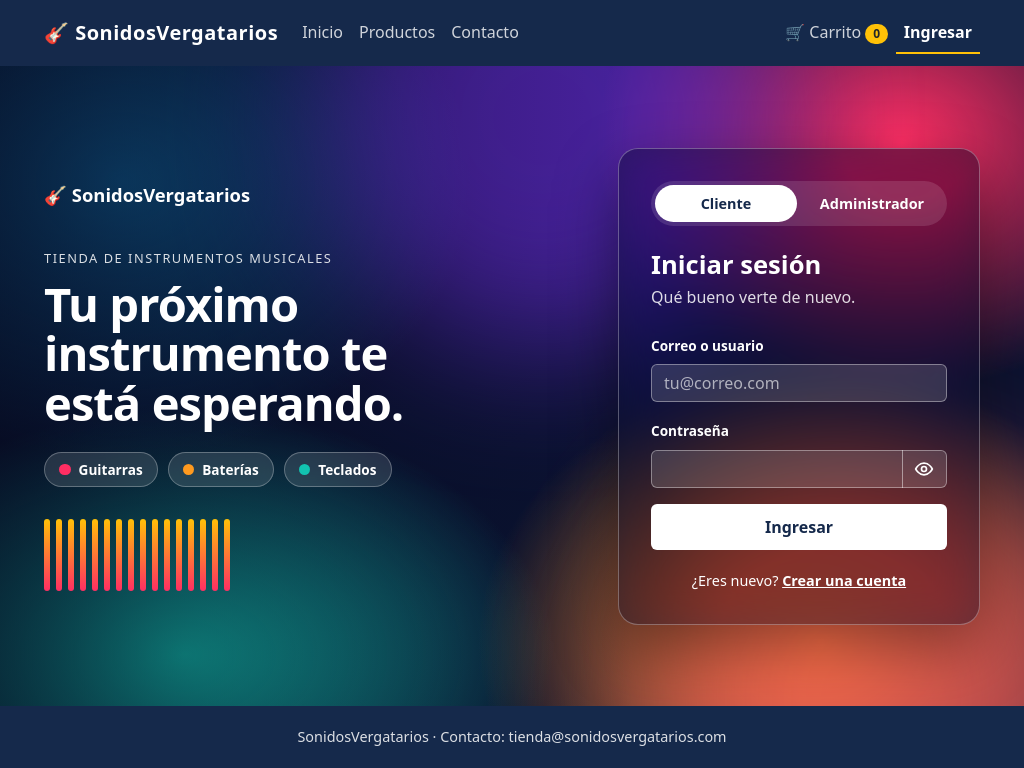
Test case: cuentas de cliente › ofrece dos partes en un solo login: cliente y administrador
Expected: the heading "Iniciar sesión" is shown, x1=651 y1=247 x2=821 y2=282
What coordinates should you click on to do the following:
click the button "Administrador"
I would click on:
 (872, 204)
Its box is x1=801 y1=185 x2=943 y2=222.
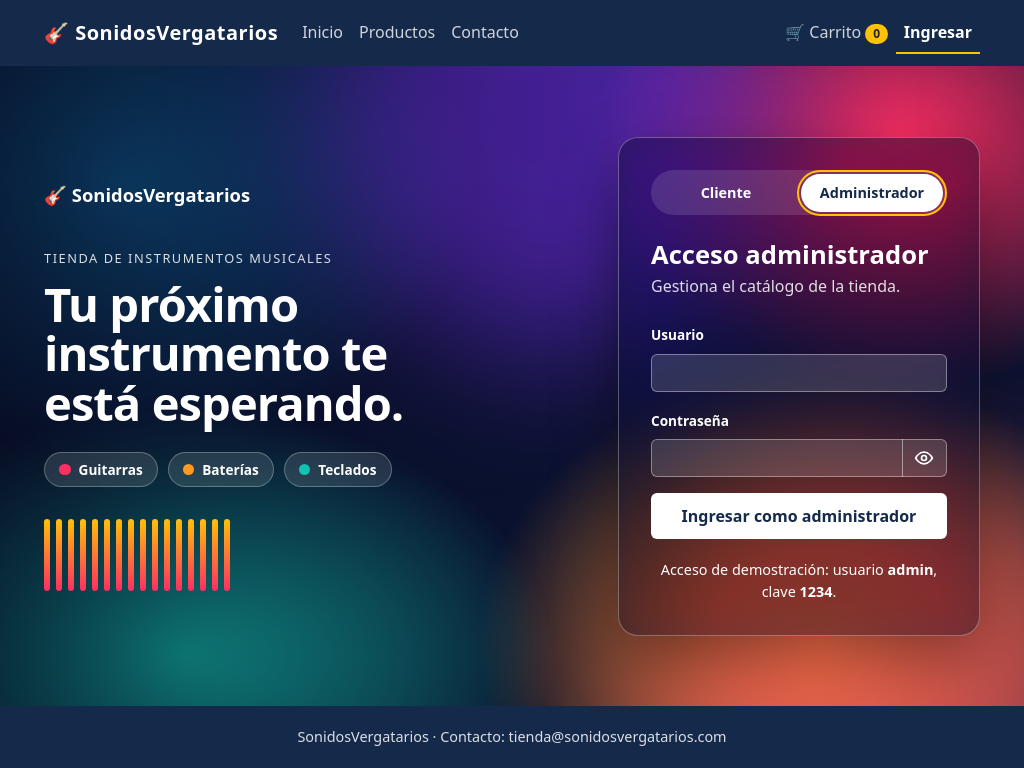
Result: the heading "Acceso administrador" is shown at x1=651 y1=240 x2=947 y2=270
What coordinates should you click on to do the following:
click the button "Cliente"
I would click on:
 (726, 193)
Its box is x1=655 y1=174 x2=797 y2=212.
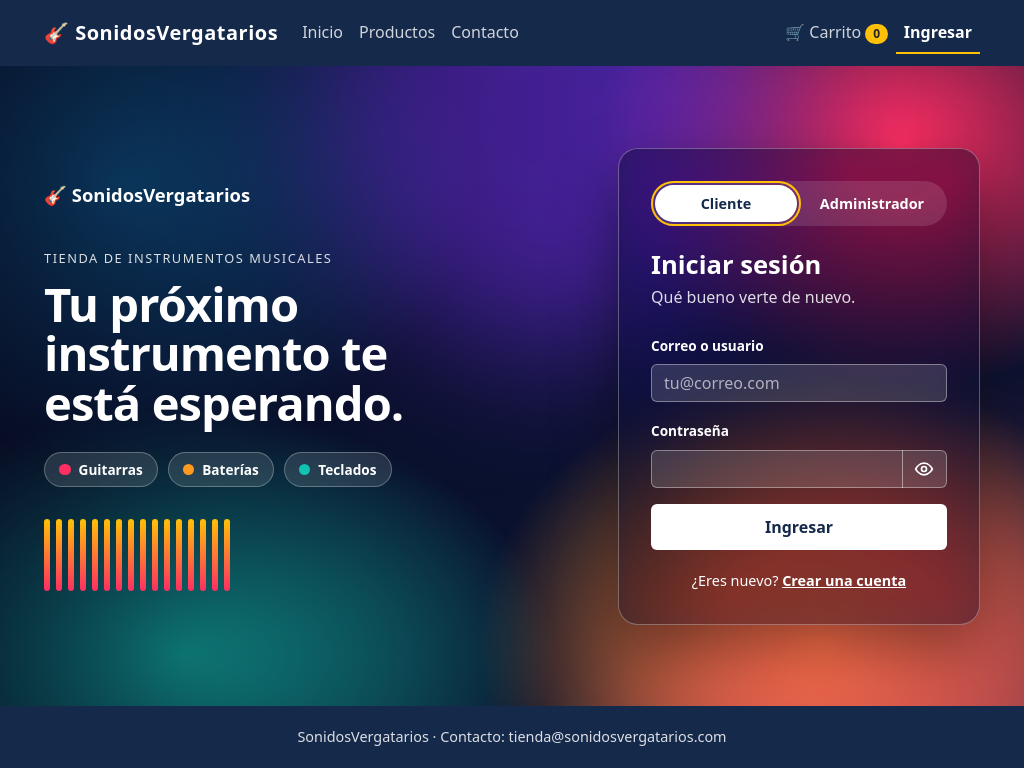
Result: the heading "Iniciar sesión" is shown at x1=651 y1=247 x2=821 y2=282
